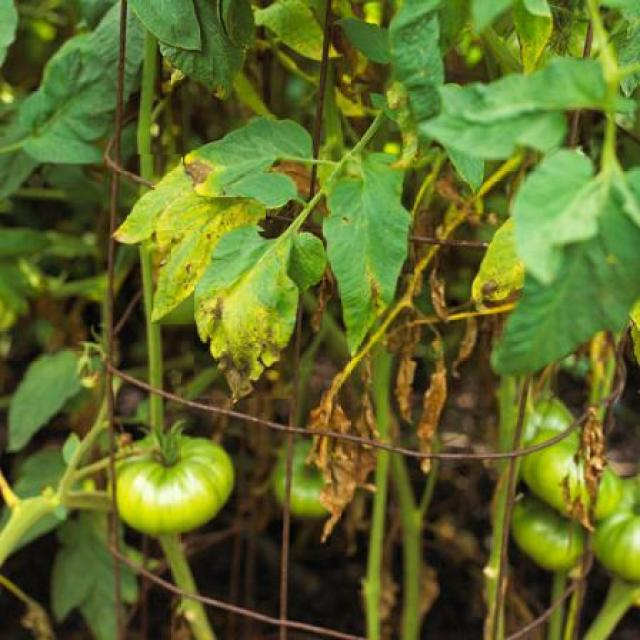Septoria: (323, 152, 414, 357), (194, 232, 299, 398), (152, 186, 265, 324), (183, 115, 314, 196), (104, 155, 196, 245), (471, 214, 525, 314)
